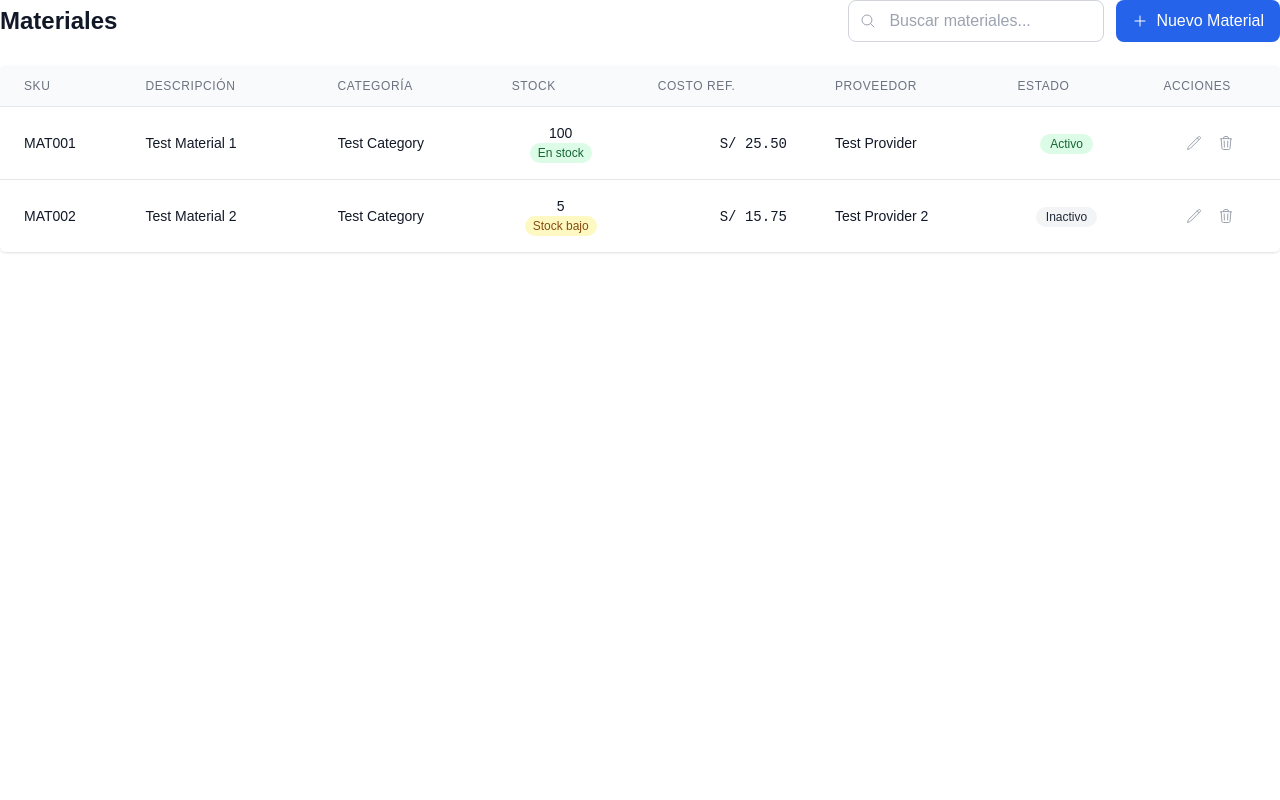
Materials Components › MaterialsList › should open create modal when clicking new material button
Click the button "Nuevo Material" at (1198, 21), box [1116, 0, 1279, 42]
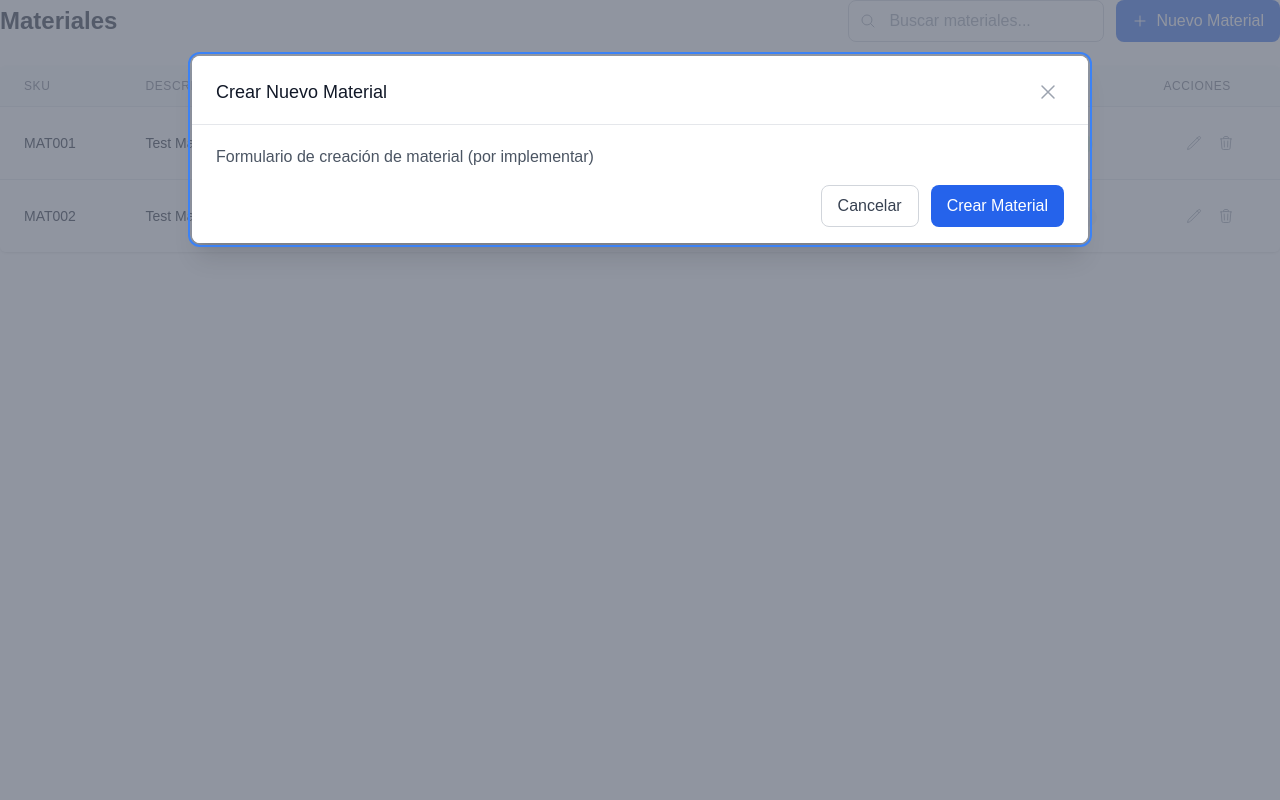
Expected: the heading "Crear Nuevo Material" is shown, [216, 78, 395, 106]
